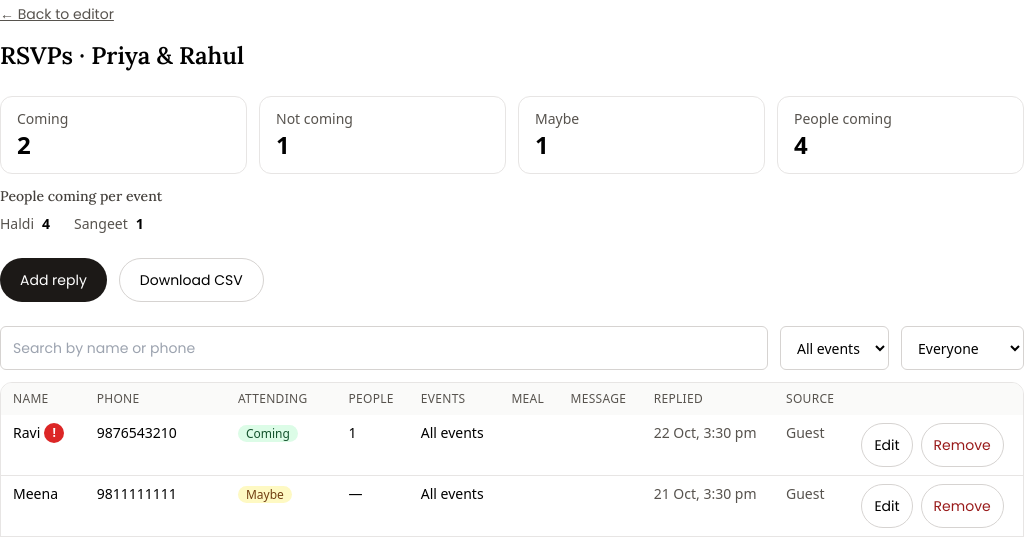
Test: RsvpPage › shows the offline message when a save never answers
Step 1. Click the button with aria-label "Edit: Meena" → click(887, 506), box [861,484,913,528]
(page scrolled)
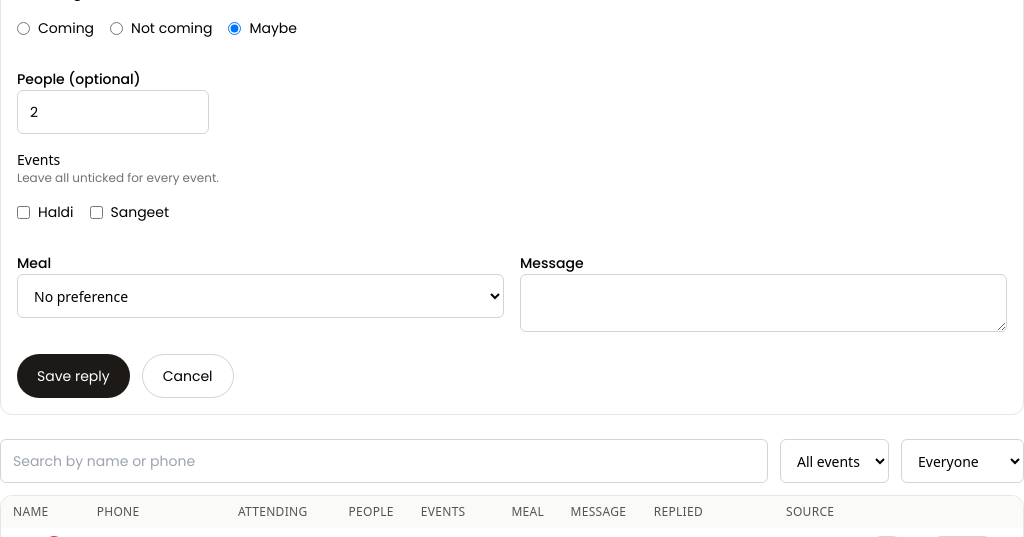
Step 2. Click the button "Save reply" → click(73, 376), box [17,354,130,398]
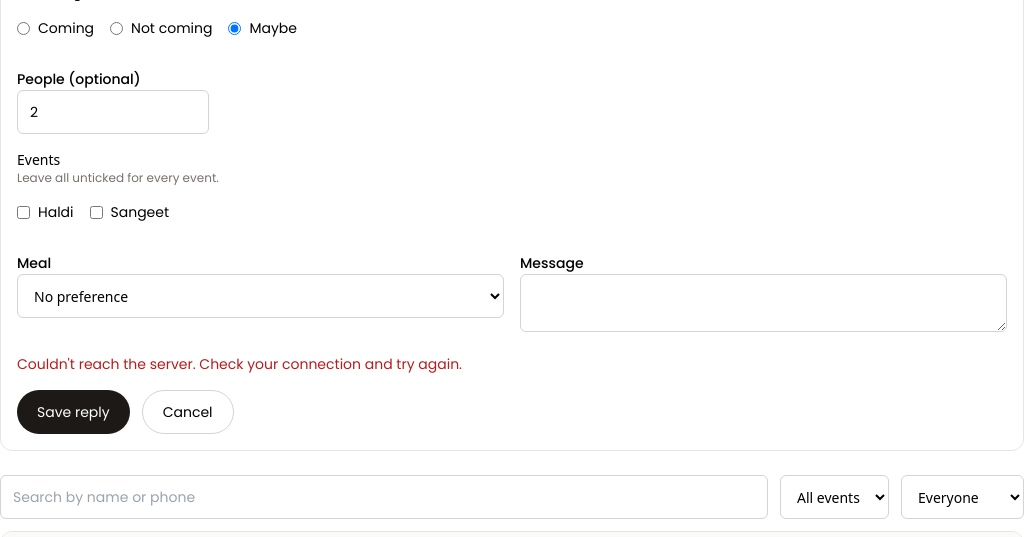
Expected: the message reads "Couldn't reach the server. Check your connection and try again.", [17,354,462,374]
